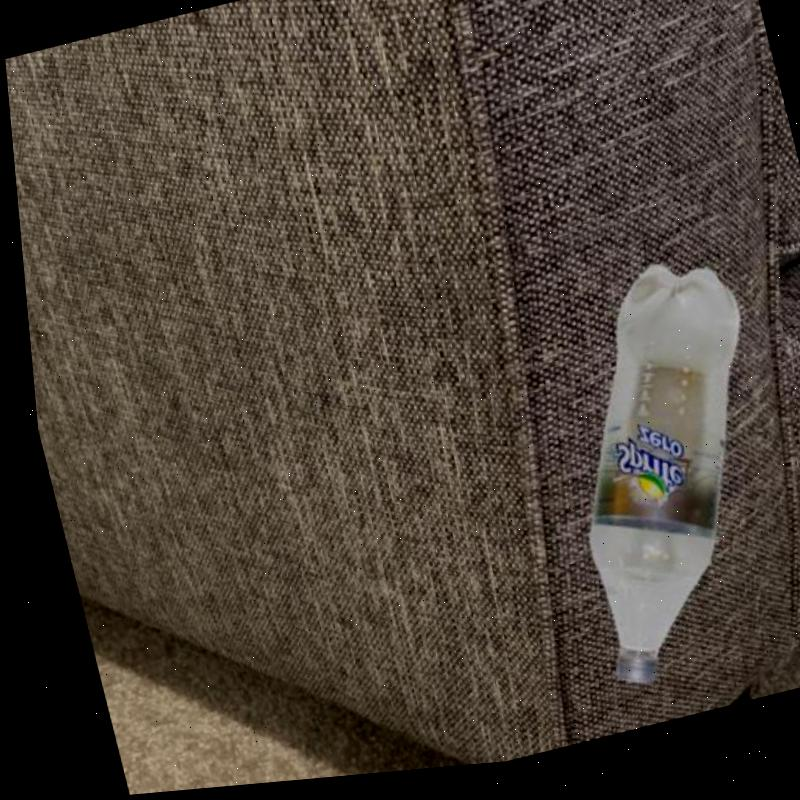botella: (510, 250, 800, 705)
